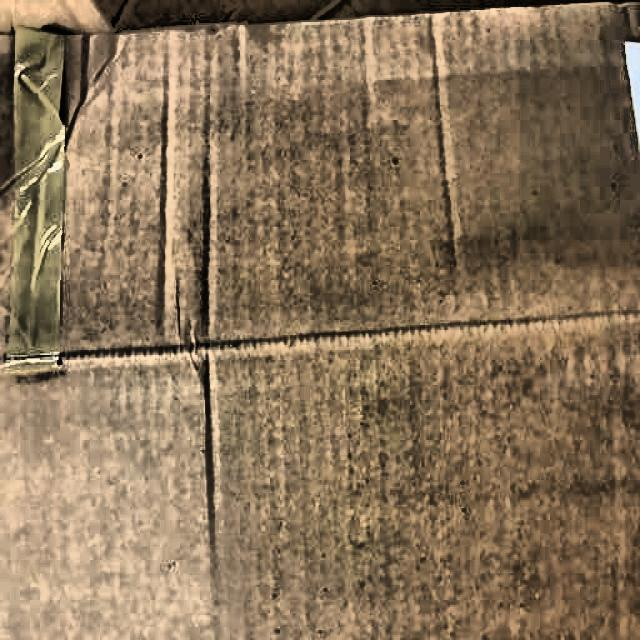cardboard: (0, 2, 625, 588)
